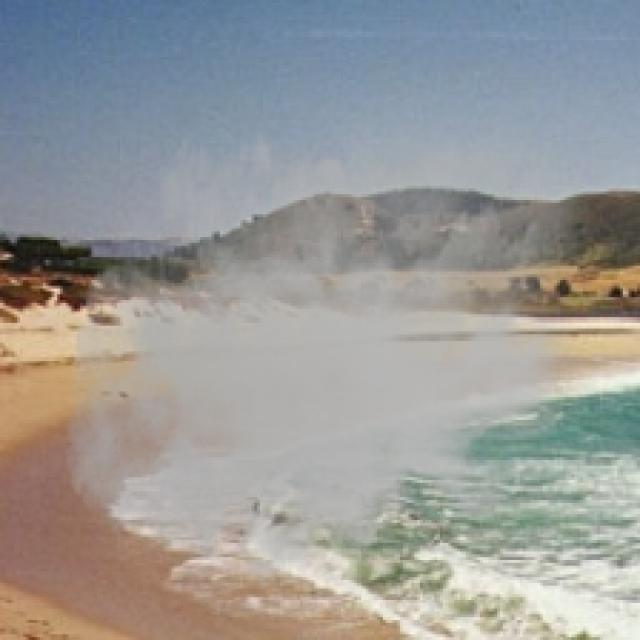Smoke: (62, 71, 608, 606)
